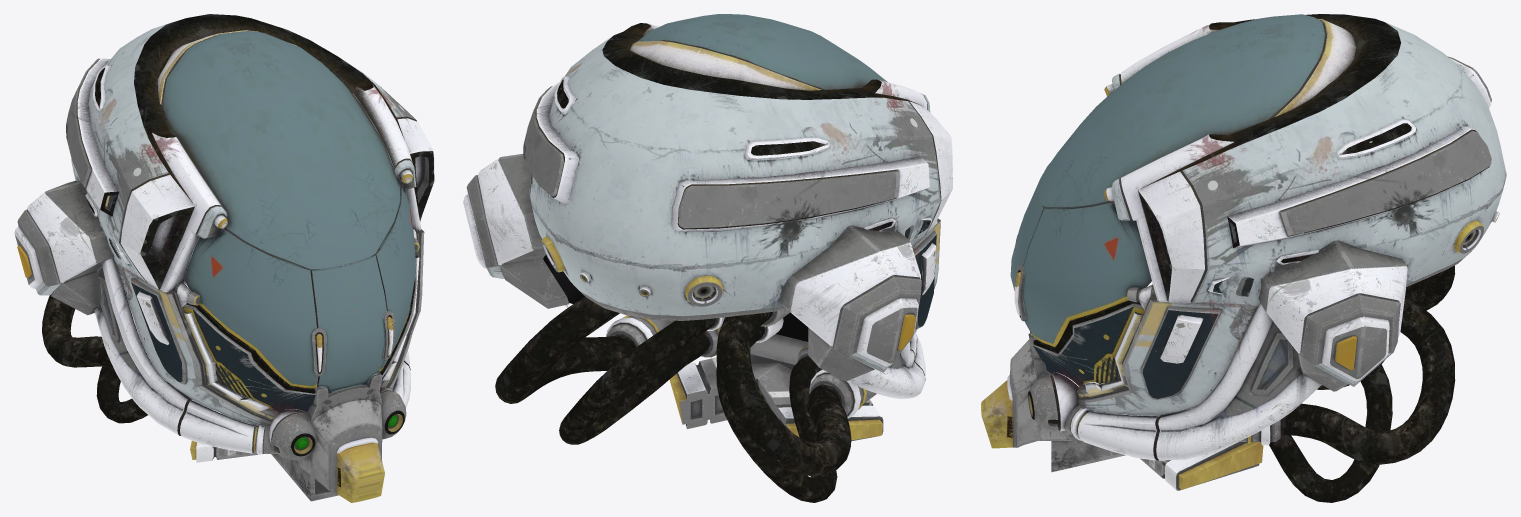
File: DamagedHelmetOLD.glb
The picture shows the model from 3 angles, left to right: view 1: azimuth 30°, elevation 25°; view 2: azimuth 150°, elevation 25°; view 3: azimuth 270°, elevation 25°; orthographic projection. The views are drawn at different scales.
Visible parts, largest first — view 1: node_damagedHelmet_-6514; view 2: node_damagedHelmet_-6514; view 3: node_damagedHelmet_-6514.
Part boxes in pixels (bbox=[...]): node_damagedHelmet_-6514: bbox=[14, 14, 434, 502]; node_damagedHelmet_-6514: bbox=[463, 14, 952, 502]; node_damagedHelmet_-6514: bbox=[981, 14, 1506, 502].
Size of the model in its own units: 1.89 by 1.8 by 2.
1 material, 1 textured.
